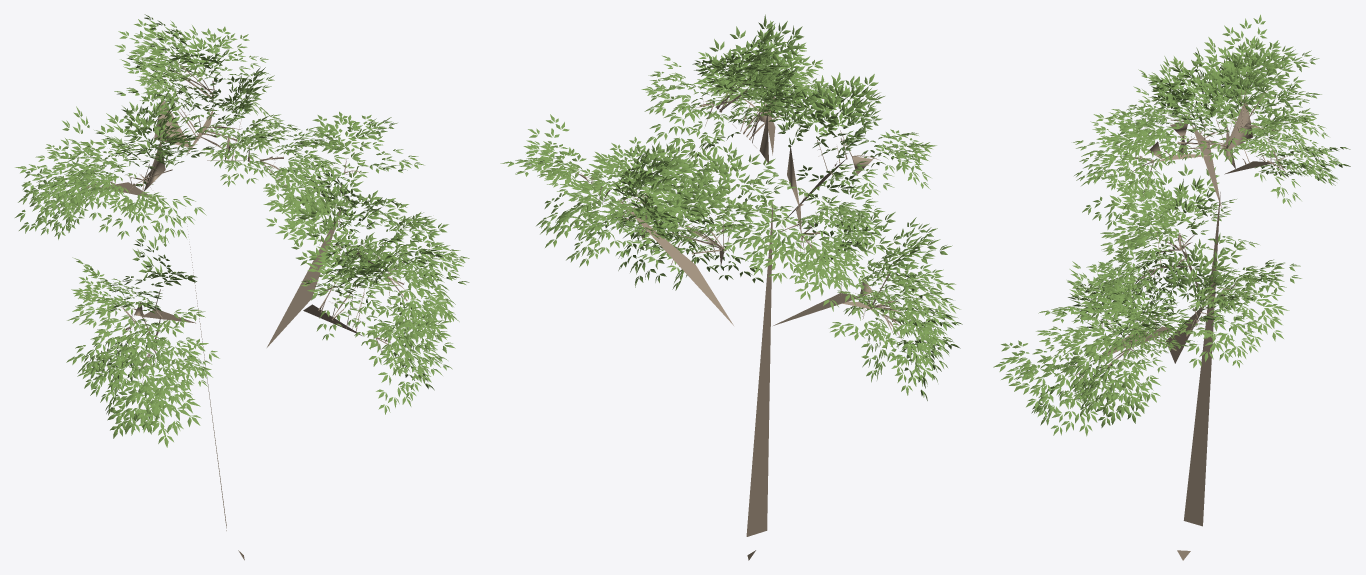
The picture shows the model from 3 angles, left to right: view 1: azimuth 30°, elevation 25°; view 2: azimuth 150°, elevation 25°; view 3: azimuth 270°, elevation 25°; orthographic projection. The views are drawn at different scales.
Parts seen in each view (by area): view 1: V21_LOD1_Foliage, V21_LOD1_Body; view 2: V21_LOD1_Foliage, V21_LOD1_Body; view 3: V21_LOD1_Foliage, V21_LOD1_Body.
Boxes of the visible parts, <box> form: V21_LOD1_Foliage: <box>15,14,469,447</box>; V21_LOD1_Body: <box>81,61,407,560</box>; V21_LOD1_Foliage: <box>500,14,962,400</box>; V21_LOD1_Body: <box>576,76,902,560</box>; V21_LOD1_Foliage: <box>993,14,1350,436</box>; V21_LOD1_Body: <box>1069,72,1292,560</box>.
Size of the model in its own units: 9 by 12.34 by 7.76.
